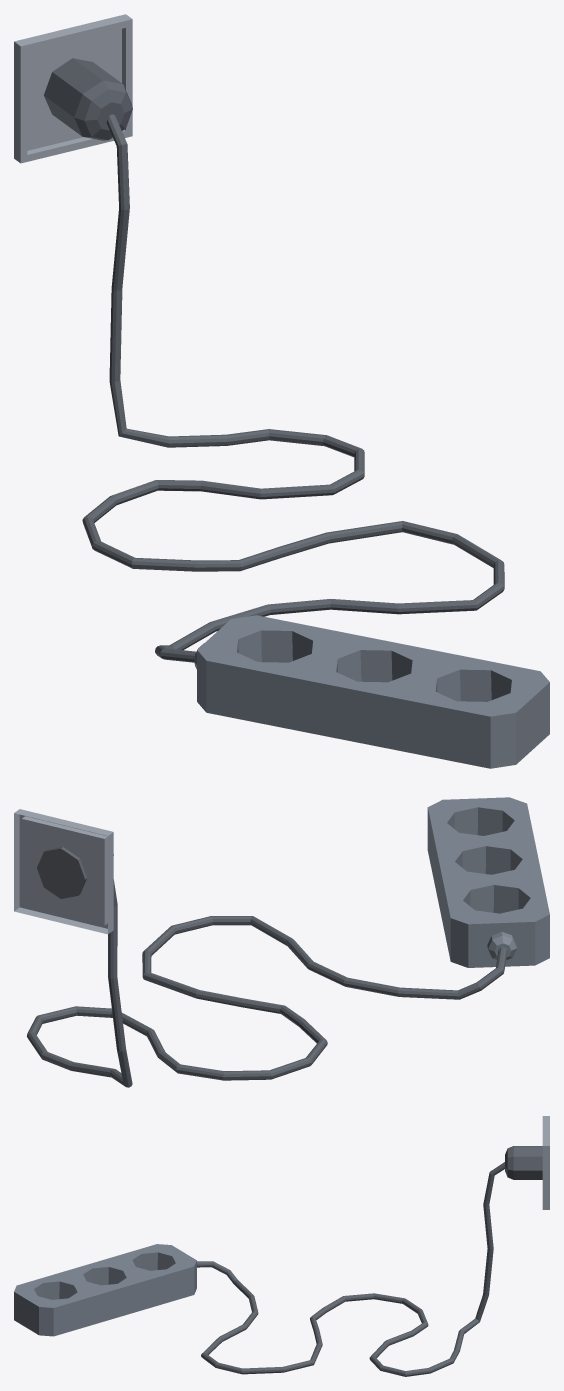
The model's file is Extension_cord_01.fbx.
3 views of the same model, one above another, from view 1: azimuth 30°, elevation 25°; view 2: azimuth 150°, elevation 25°; view 3: azimuth 270°, elevation 25° (orthographic). The views are drawn at different scales.
Parts seen in each view (by area): view 1: Extension.001, Cord.003, Plane.024; view 2: Extension.001, Cord.003, Plane.024; view 3: Extension.001, Cord.003, Plane.024.
Part boxes in pixels (bbox=[...]): Extension.001: bbox=[194, 615, 549, 768]; Cord.003: bbox=[44, 58, 504, 662]; Plane.024: bbox=[14, 14, 132, 163]; Extension.001: bbox=[427, 797, 549, 967]; Cord.003: bbox=[27, 847, 507, 1087]; Plane.024: bbox=[14, 809, 113, 934]; Extension.001: bbox=[14, 1244, 196, 1336]; Cord.003: bbox=[197, 1146, 542, 1376]; Plane.024: bbox=[542, 1116, 549, 1209].
Size of the model in its own units: 0.7858 by 1.73 by 0.7264.
